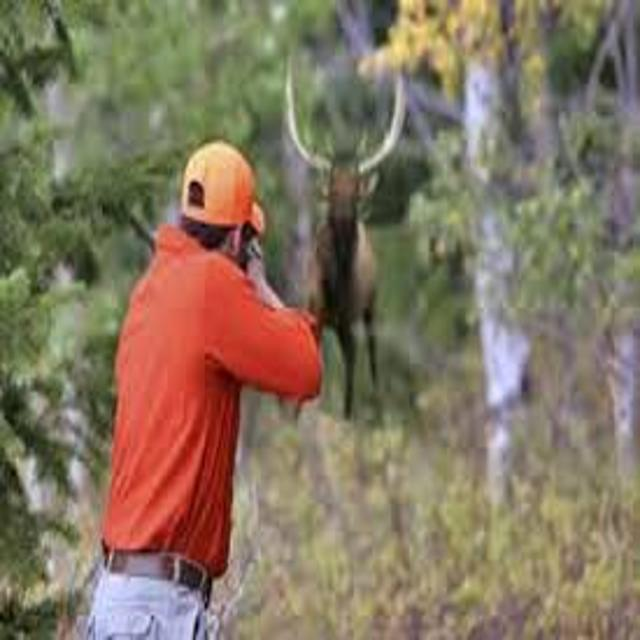deer: (230, 32, 444, 431)
poacher: (28, 112, 343, 639)
